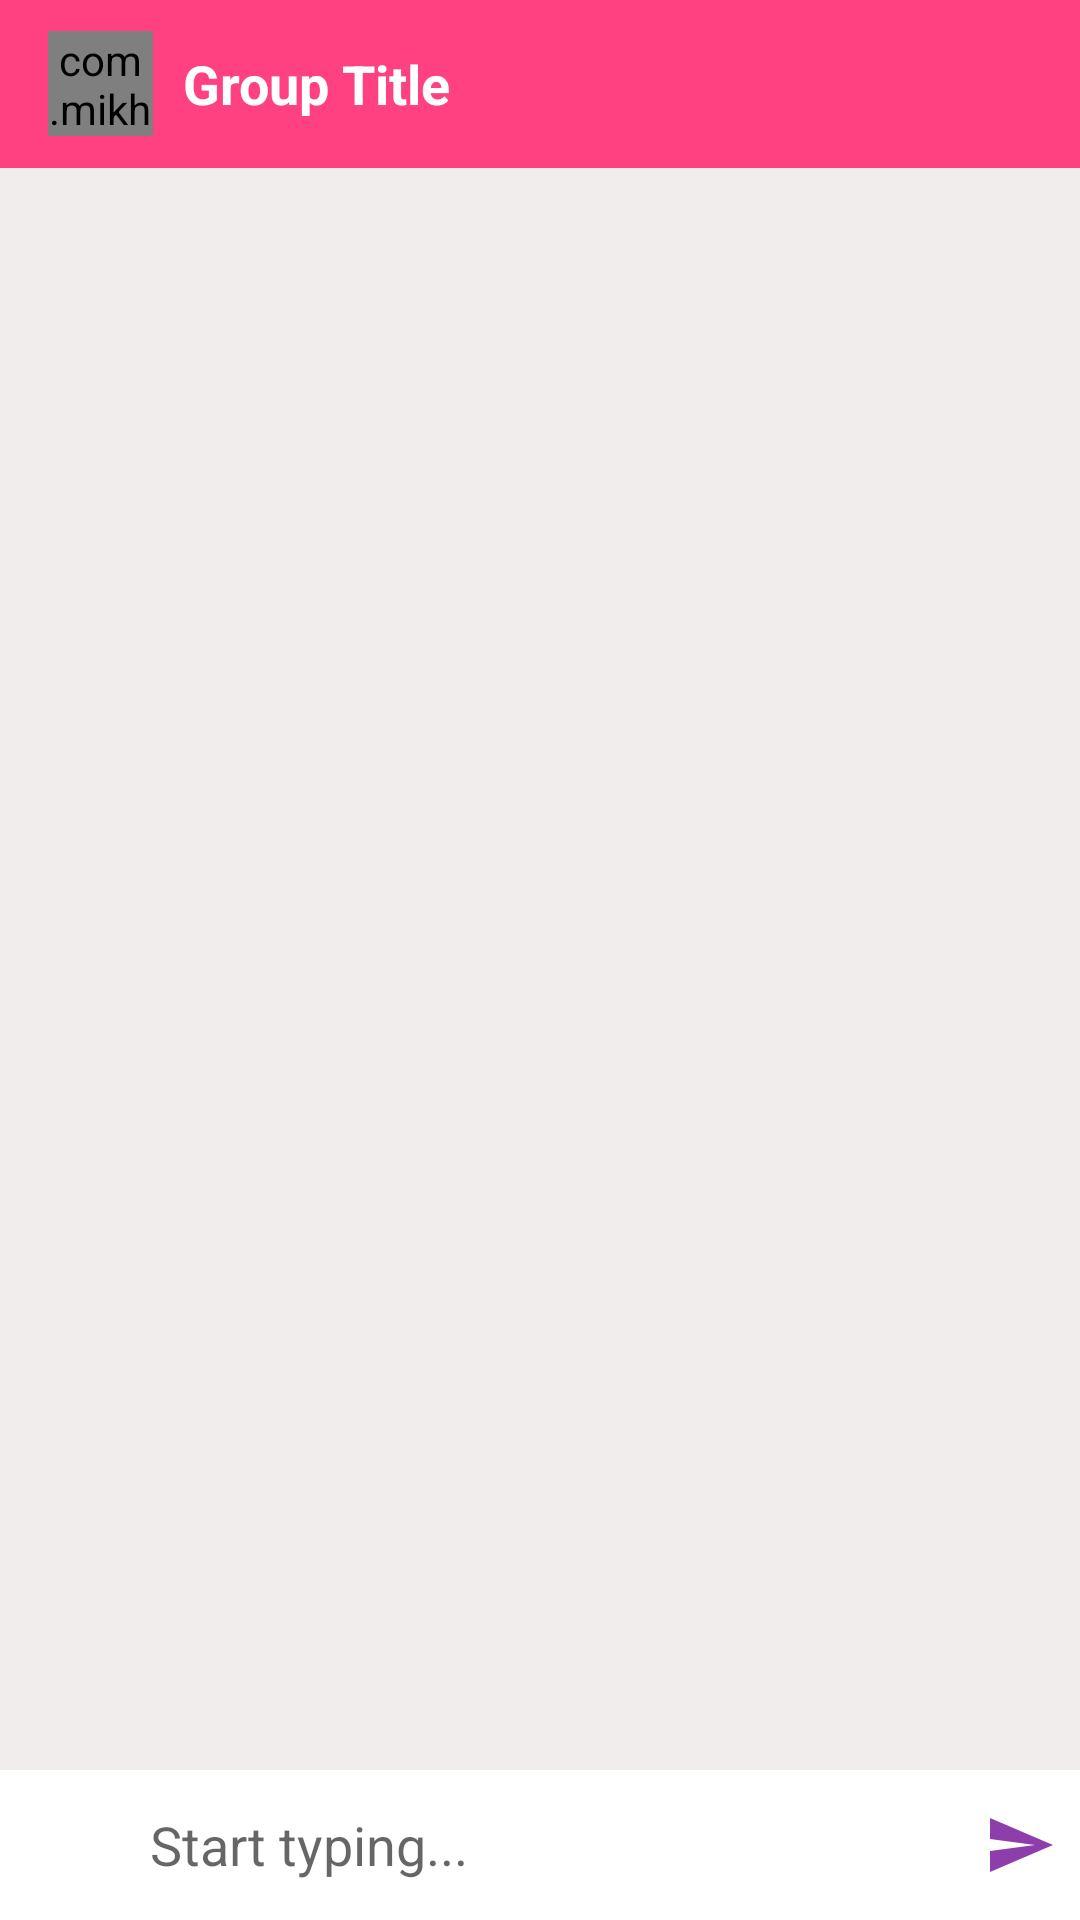

Named icons in this screenshot (1080 × 1920) and their bounding boxes, (x1, y1, x2, y2):
send: (990, 1818, 1053, 1872)
